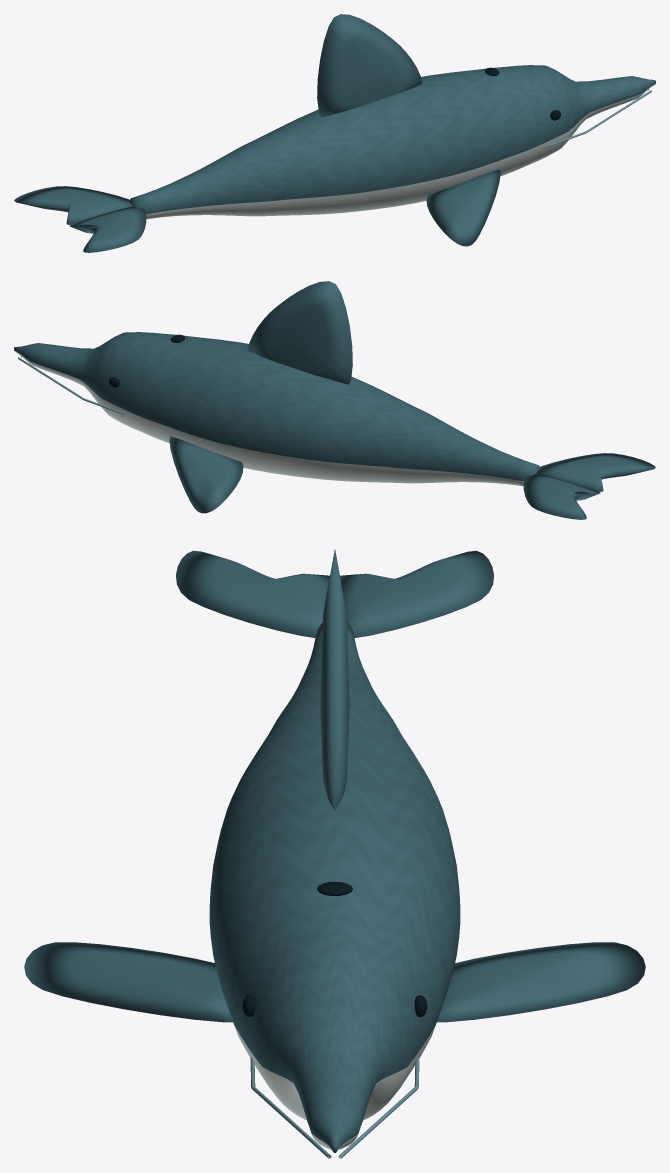
File: m_dolphin.glb
3 renders of one model, top to bottom at view 1: azimuth 30°, elevation 25°; view 2: azimuth 150°, elevation 25°; view 3: azimuth 270°, elevation 25°, orthographic. The views are drawn at different scales.
Parts seen in each view (by area): view 1: Dolphin; view 2: Dolphin; view 3: Dolphin.
Part boxes in pixels (bbox=[...]): Dolphin: bbox=[14, 14, 655, 252]; Dolphin: bbox=[14, 281, 655, 519]; Dolphin: bbox=[24, 549, 645, 1158].
Size of the model in its own units: 1.15 by 0.3627 by 0.5108.
Materials: 4 (1 with a texture image).
